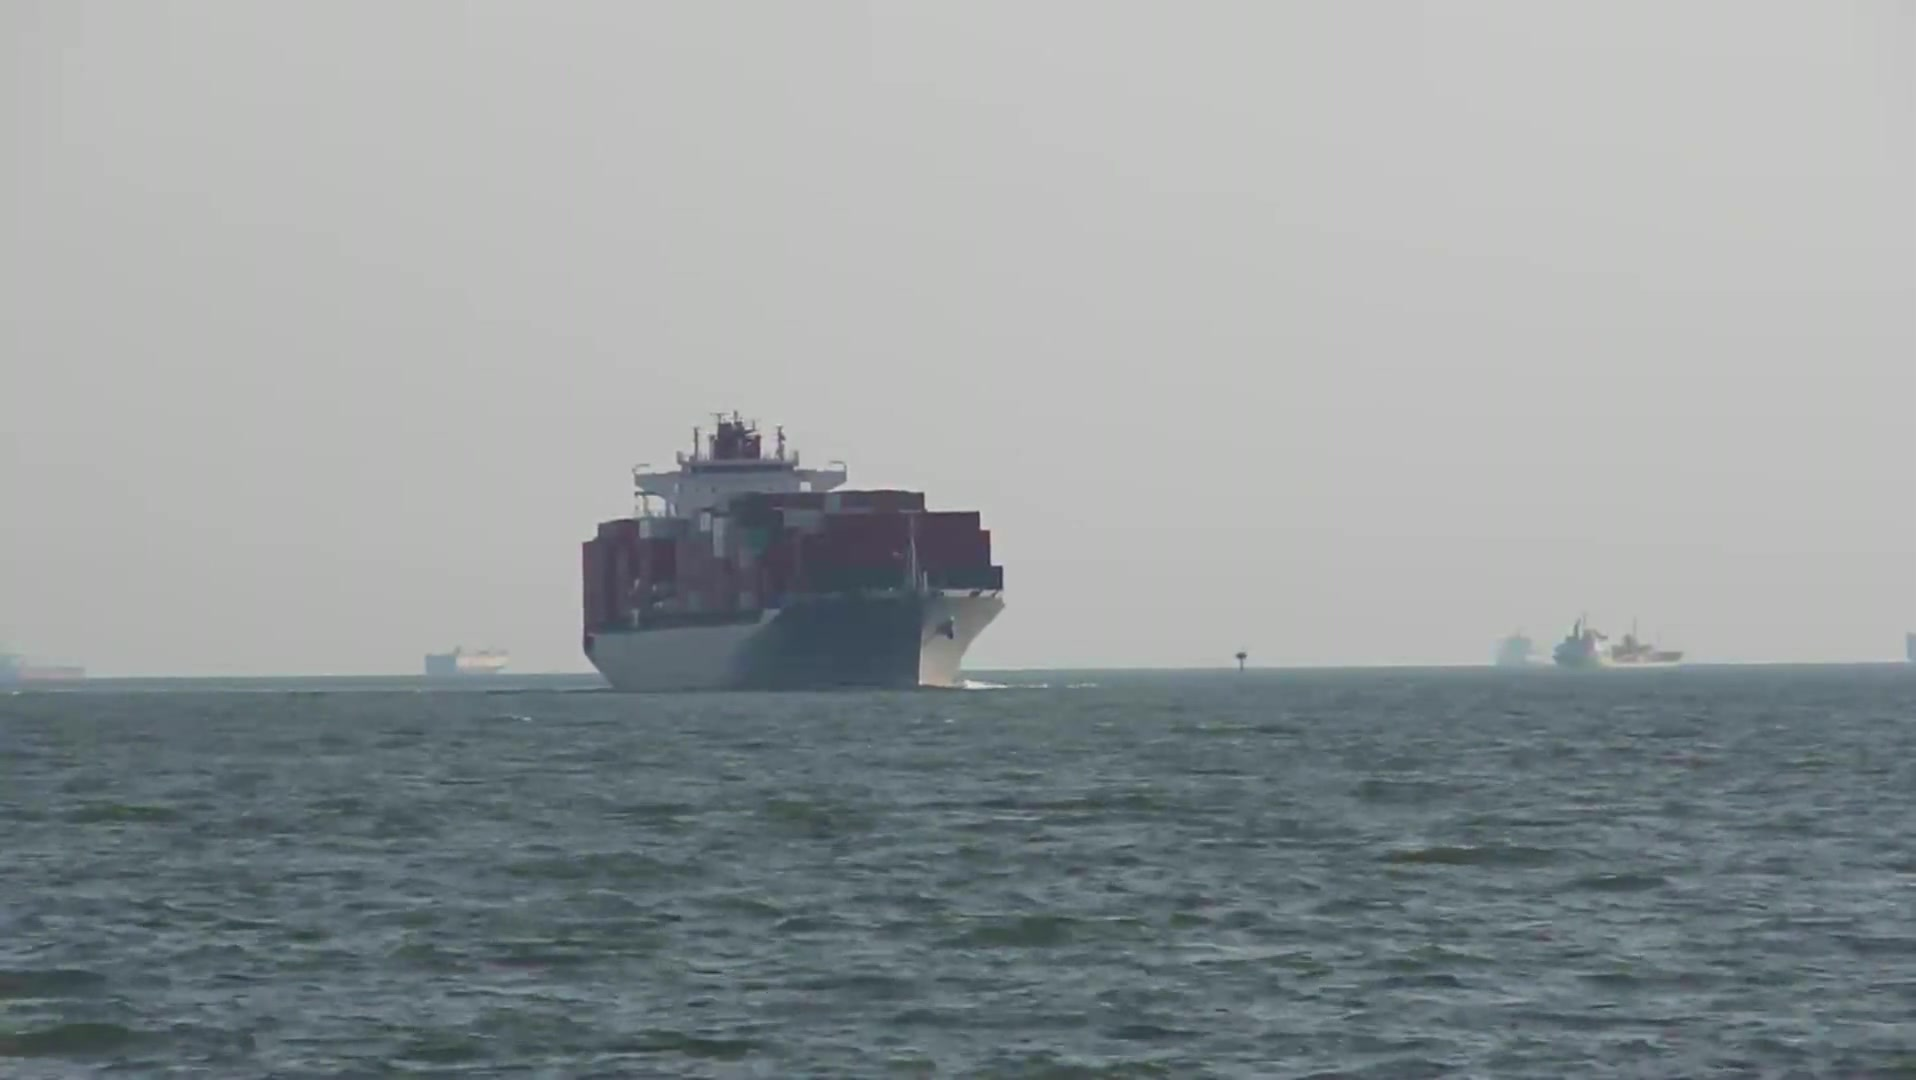boat: (578, 413, 1005, 699), (1511, 612, 1695, 685), (420, 630, 517, 685), (1, 647, 95, 687)
